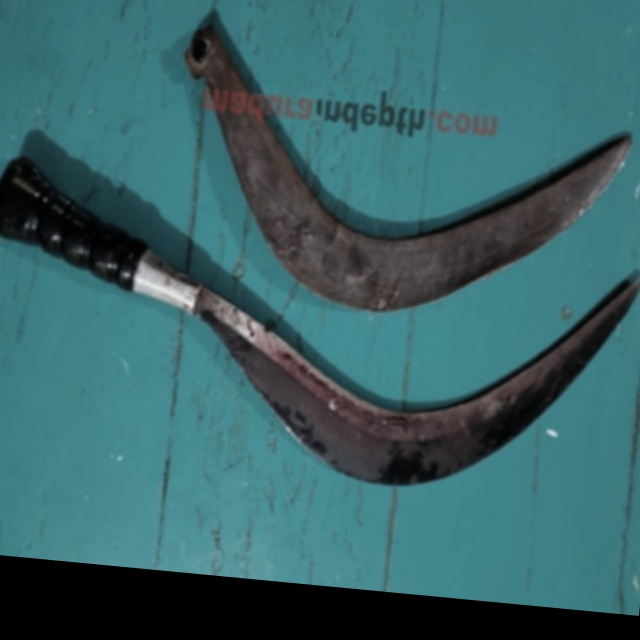Sharp-Object: (0, 150, 640, 514)
